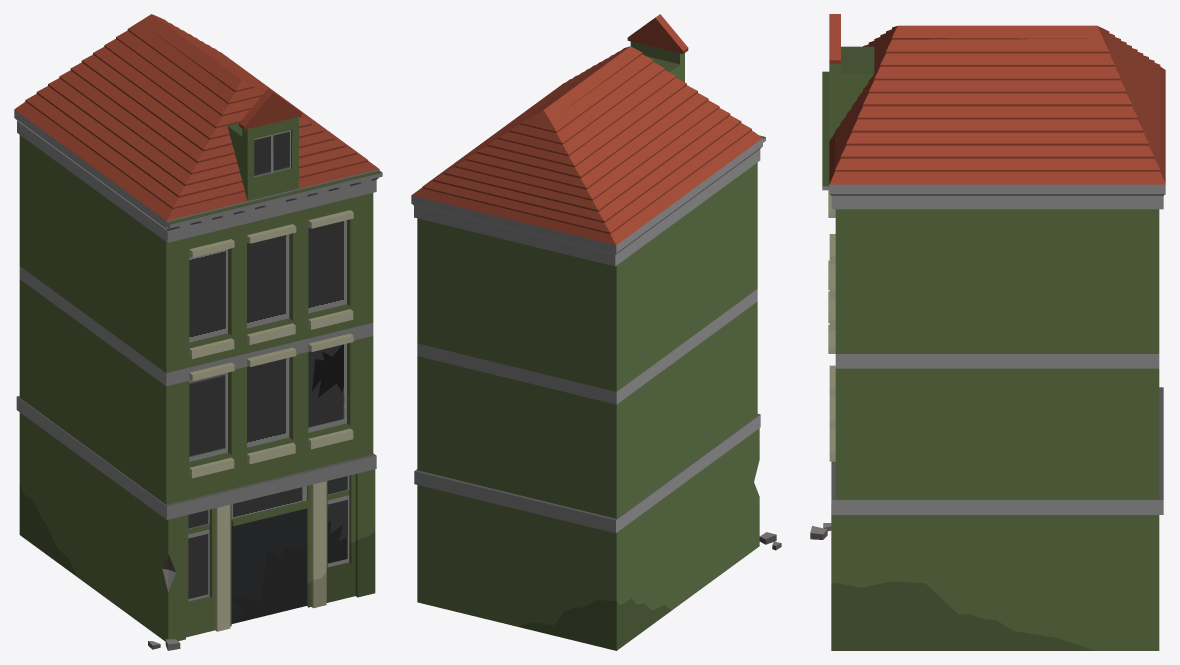
Rendered from SA_Bld_OfficeOld_03.glb.
The picture shows the model from 3 angles, left to right: view 1: azimuth 30°, elevation 25°; view 2: azimuth 150°, elevation 25°; view 3: azimuth 270°, elevation 25°; orthographic projection. The views are drawn at different scales.
Visible parts, largest first — view 1: SA_Bld_OfficeOld_03; view 2: SA_Bld_OfficeOld_03; view 3: SA_Bld_OfficeOld_03.
Part boxes in pixels (bbox=[...]): SA_Bld_OfficeOld_03: bbox=[14, 14, 382, 650]; SA_Bld_OfficeOld_03: bbox=[411, 14, 781, 650]; SA_Bld_OfficeOld_03: bbox=[810, 14, 1165, 650].
Size of the model in its own units: 3.86 by 8.47 by 4.69.
1 material, 1 textured.
